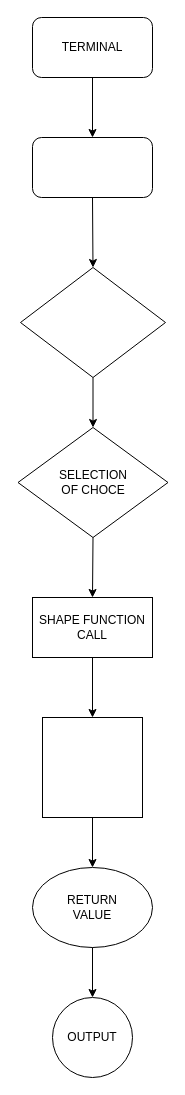
Some shapes in this 185 by 1095 pixel diagram are drawn without their labels. The centre of each missing label's shape, as x and y in pixels:
"CALCULATION OF PARAMETERS" goes at [92,767].
"SELECTION OF SHAPE" goes at [93,322].
"USER INPUT" goes at [92,167].
